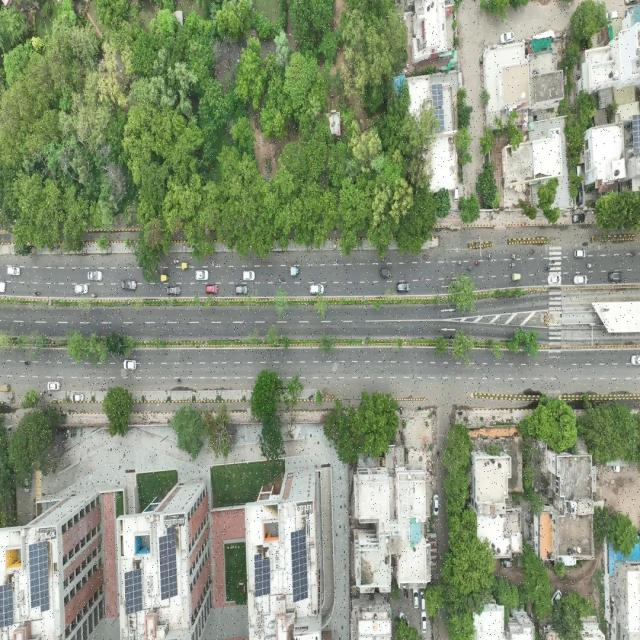3W: (511, 271, 522, 283), (0, 382, 11, 392), (181, 262, 191, 271), (160, 274, 170, 282)
Cars: (309, 282, 325, 296), (122, 358, 138, 371), (121, 279, 138, 291), (74, 283, 90, 295), (608, 270, 624, 282), (46, 380, 62, 392), (88, 270, 103, 282), (573, 274, 588, 286), (546, 274, 562, 285), (413, 587, 420, 612), (195, 270, 209, 282), (242, 270, 256, 282), (433, 493, 440, 517), (421, 610, 428, 634), (397, 281, 410, 293), (70, 392, 84, 403), (166, 286, 181, 296), (235, 285, 249, 295), (572, 214, 586, 224), (574, 248, 586, 259), (7, 267, 21, 276), (206, 284, 218, 294), (380, 268, 392, 278)
LCV: (290, 265, 301, 277)
M2W: (455, 259, 464, 266), (23, 360, 32, 367), (209, 259, 216, 267), (422, 253, 430, 260), (333, 258, 340, 265), (486, 253, 493, 260), (529, 248, 536, 255), (586, 262, 593, 269), (629, 251, 636, 258), (176, 376, 183, 383), (172, 258, 180, 264), (33, 291, 42, 296), (467, 264, 473, 271), (474, 260, 481, 266), (511, 253, 517, 260), (549, 259, 556, 265), (544, 265, 551, 271), (90, 293, 98, 298), (278, 278, 286, 283), (508, 263, 516, 267)
